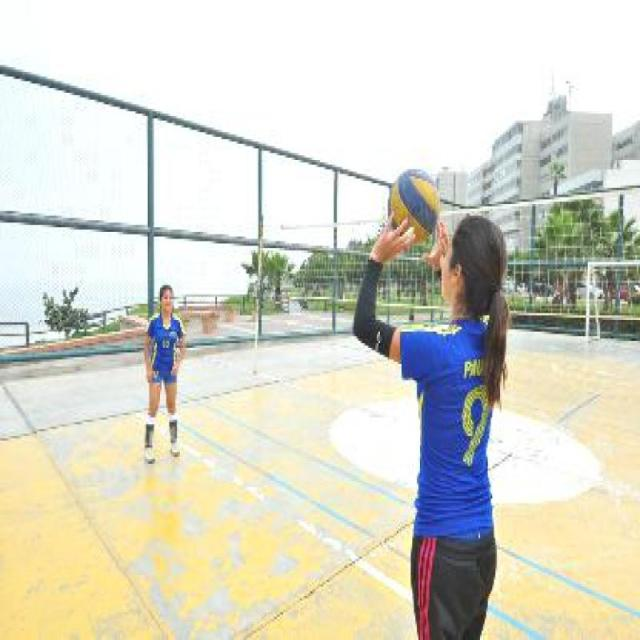volleyball: (385, 167, 440, 246)
